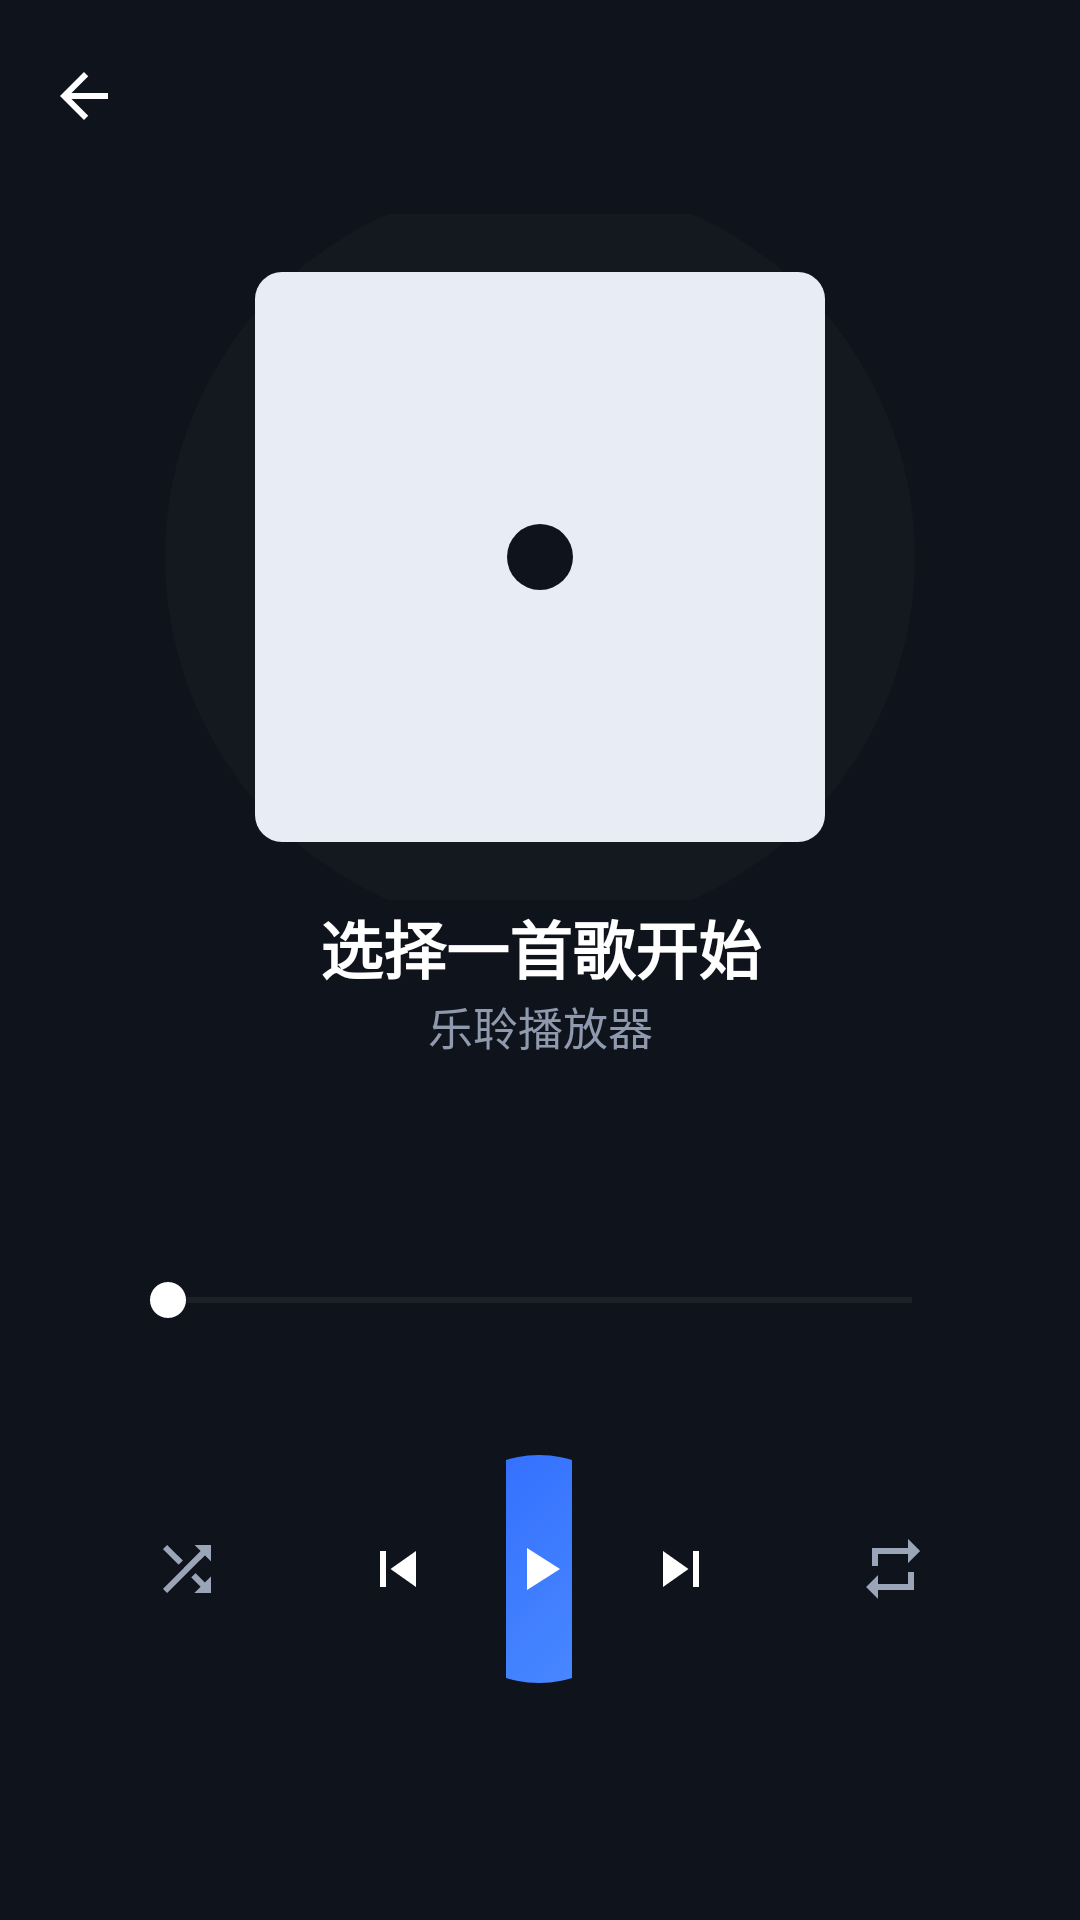

Icon bounding boxes for this 1080px x 1920px phone screenshot, format (x1, y1, x2, y2):
上一首: (380, 1551, 416, 1587)
下一首: (663, 1551, 699, 1587)
播放模式: (866, 1539, 920, 1599)
随机播放: (163, 1545, 211, 1593)
